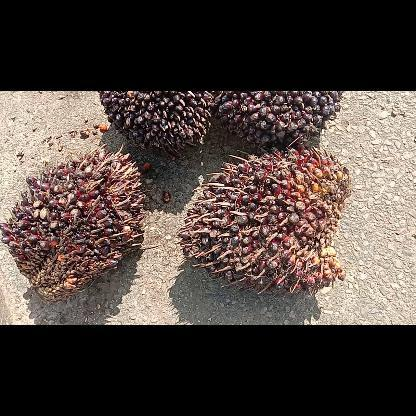TBS mentah: (0, 144, 159, 303), (178, 148, 348, 296), (215, 90, 341, 152), (98, 91, 214, 153)
